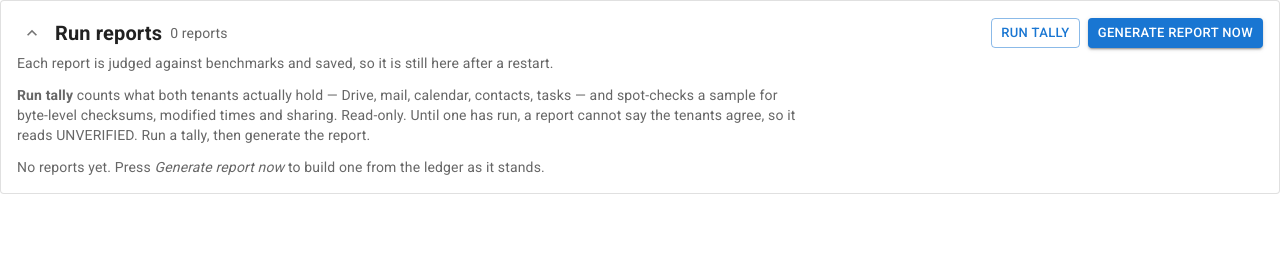
Test: RunReports › generates a report and shows it
The image size is (1280, 257).
Expected: the element with test id "no-reports" is shown, [17,159,545,175]
Click the button "Generate report now" at (1175, 33), box [1088,18,1263,48]
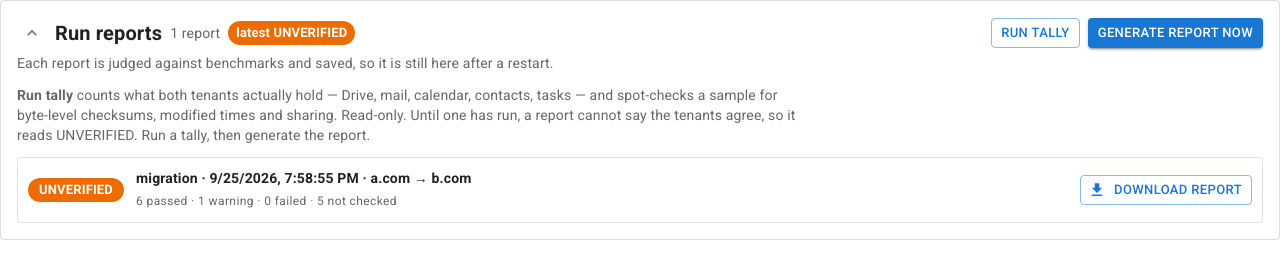
Result: the element with test id "report-migration-20260925T195855Z" is shown at [17,157,1263,223]
